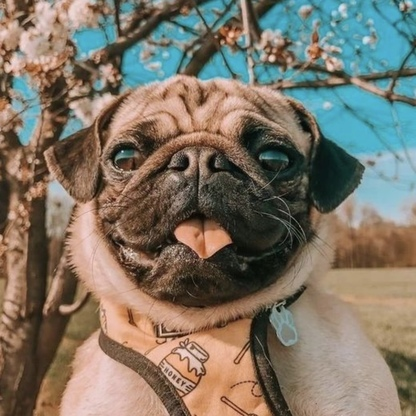Pug: (30, 68, 406, 416)
